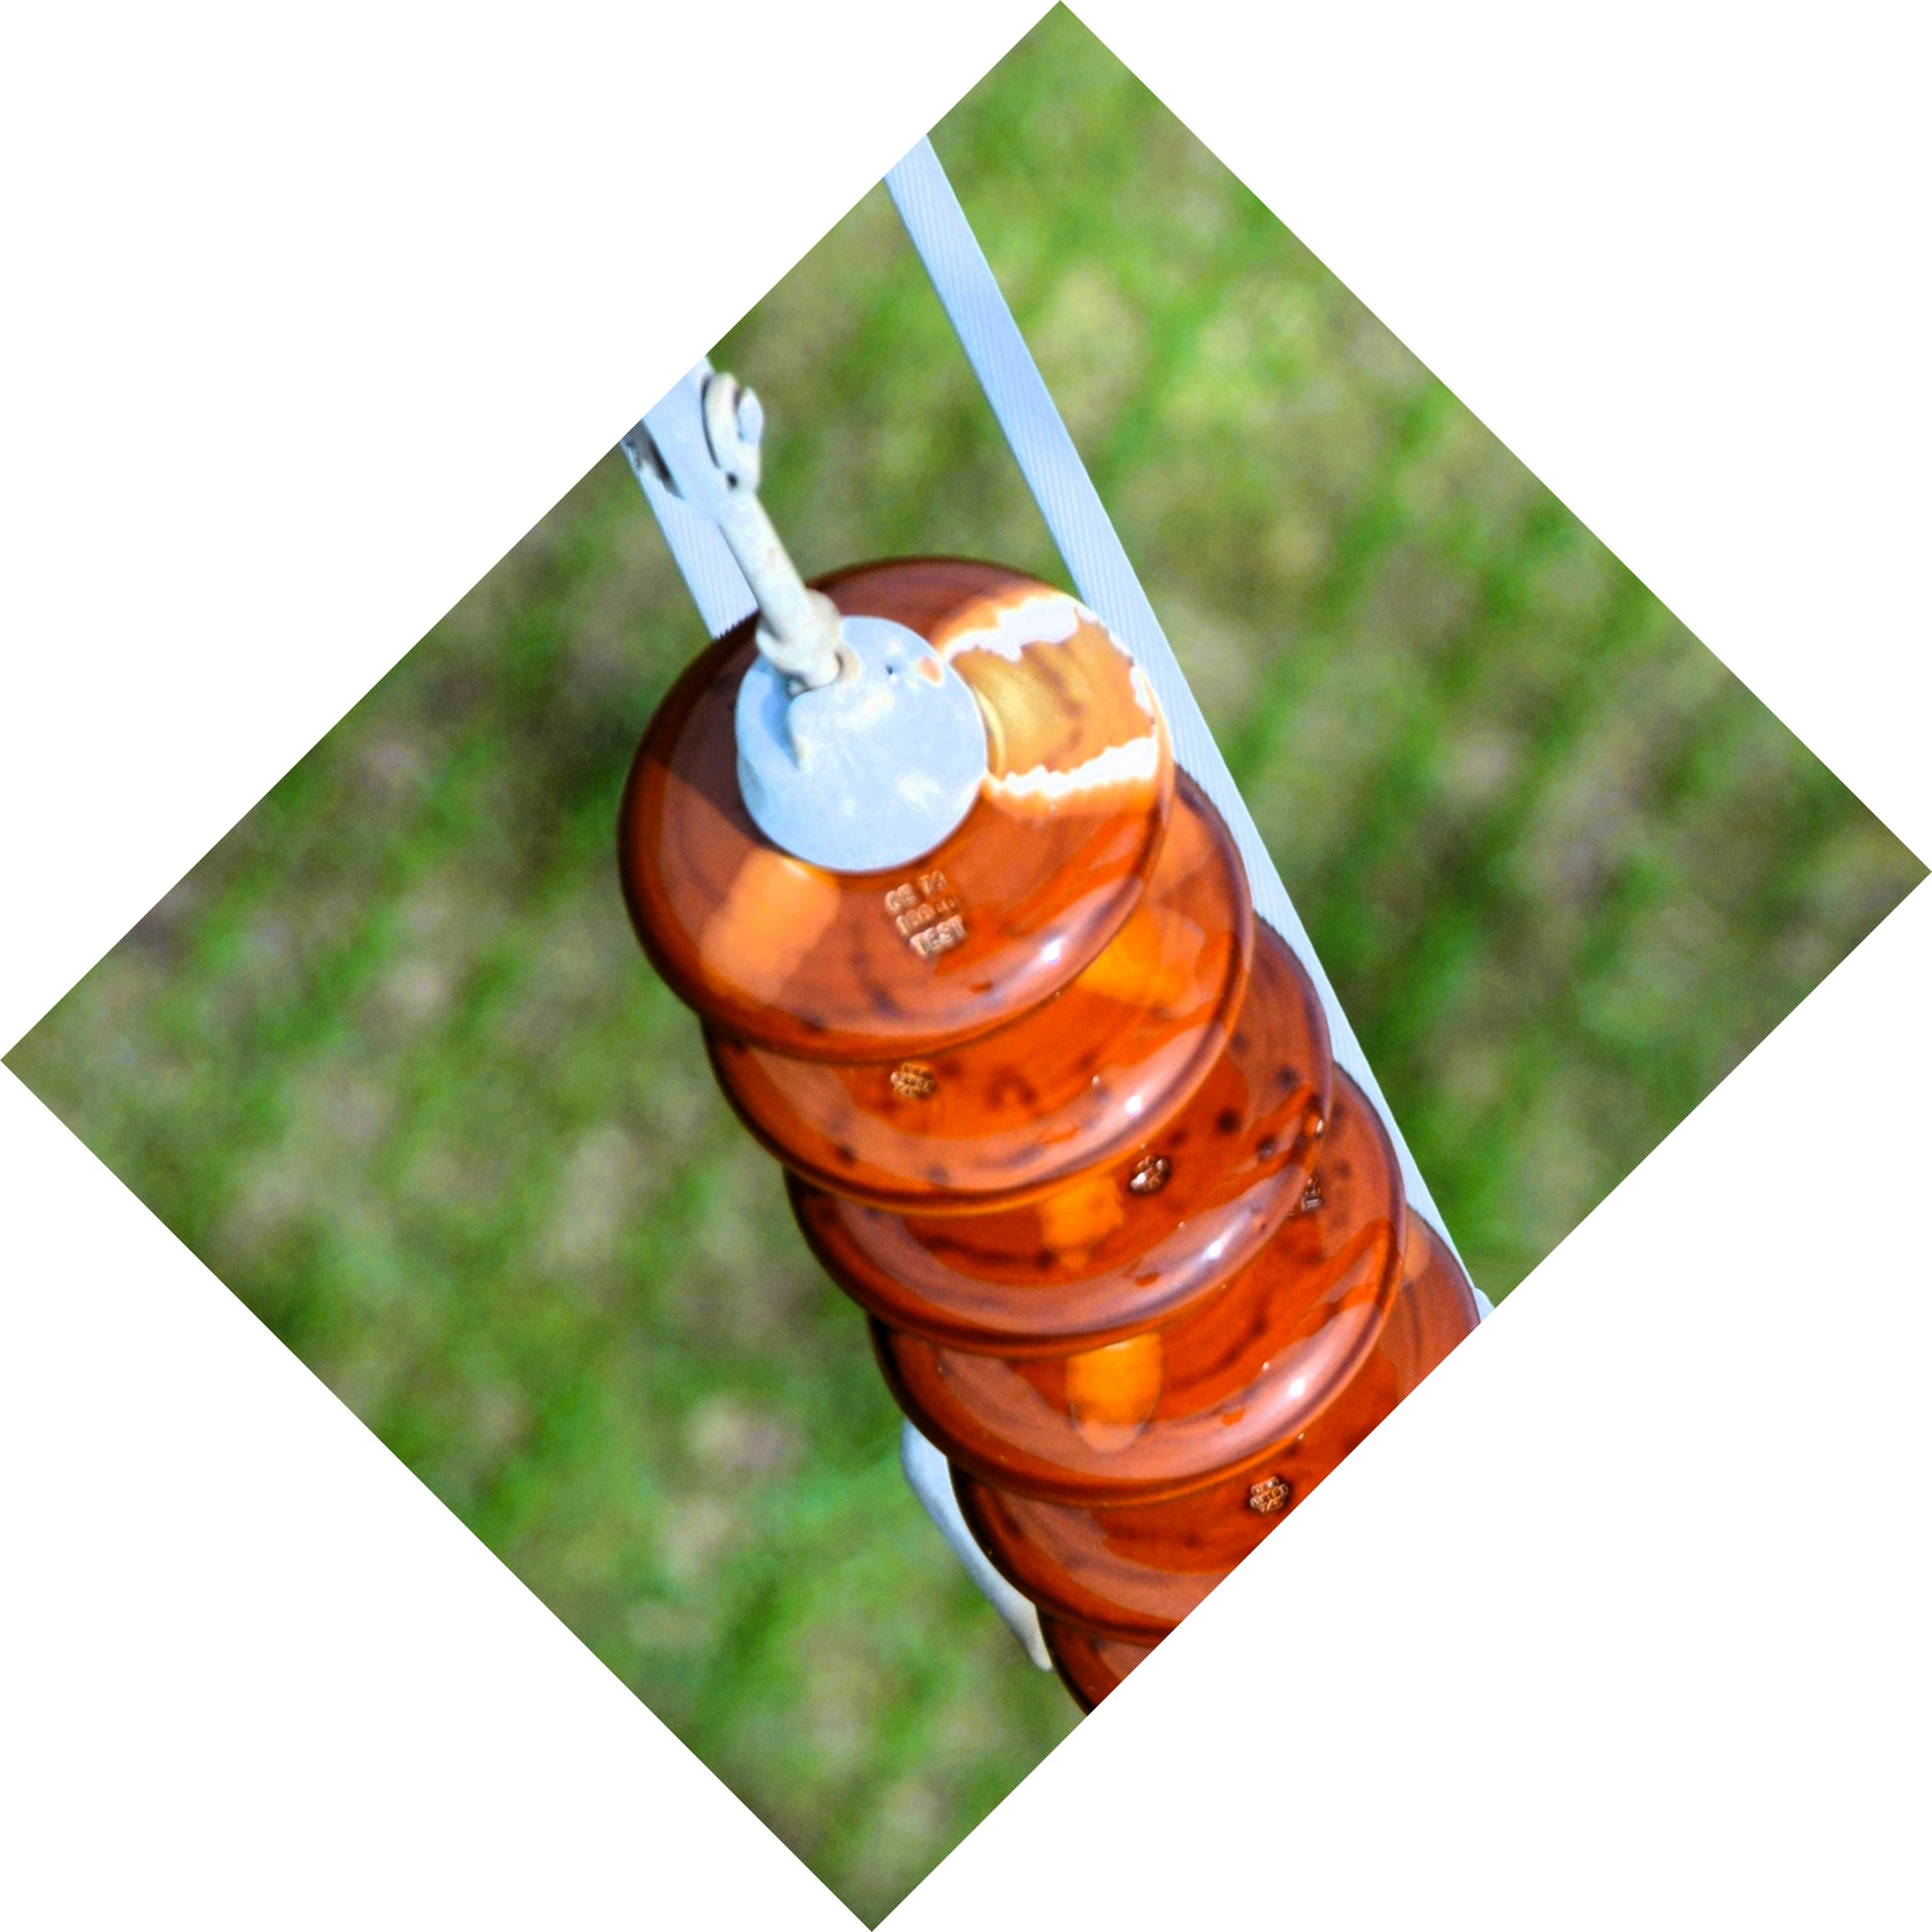Insulator flashover: (600, 547, 1185, 1069)
